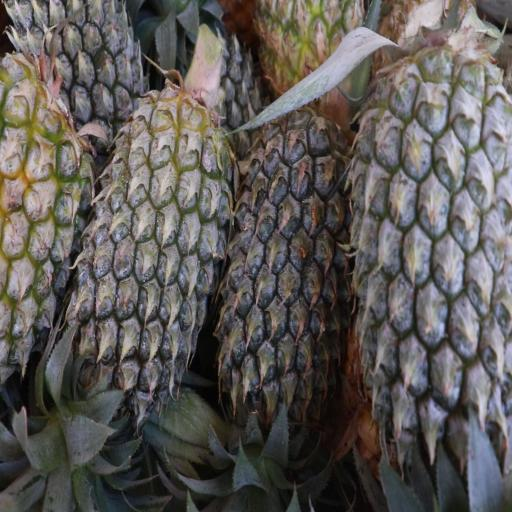------------------------------: (0, 63, 95, 369), (258, 0, 368, 113)
